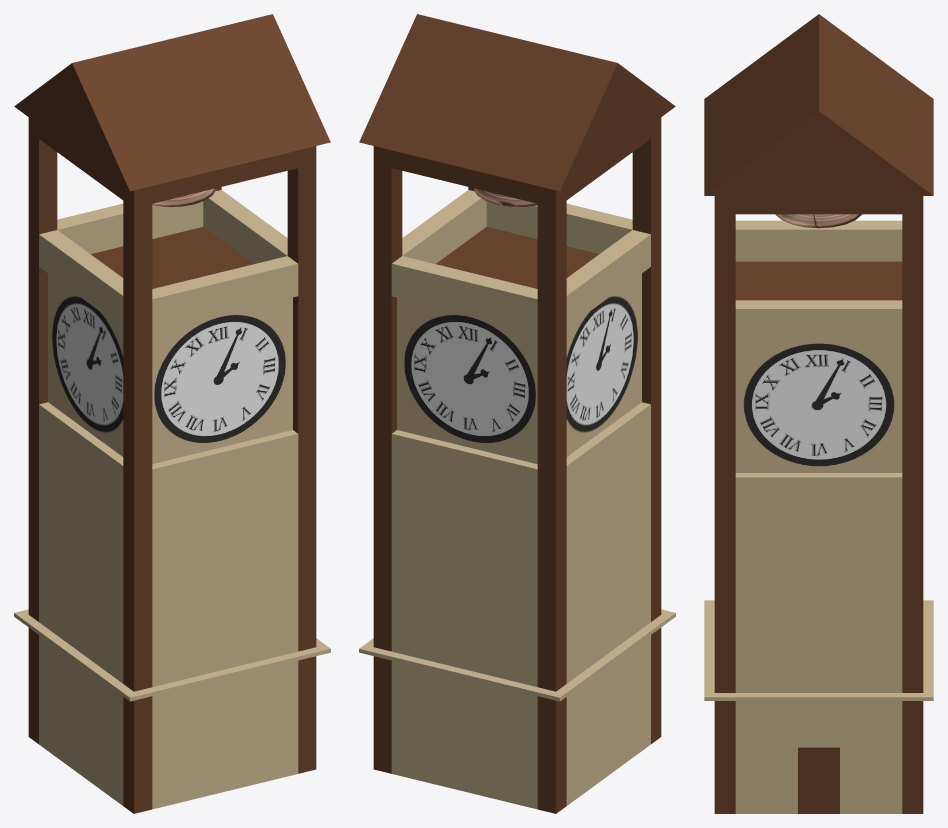
The model's file is pho-thap-chuong.glb.
3 views of the same model, side by side, from view 1: azimuth 30°, elevation 25°; view 2: azimuth 150°, elevation 25°; view 3: azimuth 270°, elevation 25° (orthographic).
Visible parts, largest first — view 1: pho-thap-chuong; view 2: pho-thap-chuong; view 3: pho-thap-chuong.
Boxes of the visible parts, box(x1,y1,x2,y2) form: pho-thap-chuong: box(14, 14, 330, 813); pho-thap-chuong: box(359, 14, 675, 813); pho-thap-chuong: box(704, 14, 933, 813).
Bounding box in the file's own units: 22 × 74.8 × 22.
Materials: 4 (2 with a texture image).
